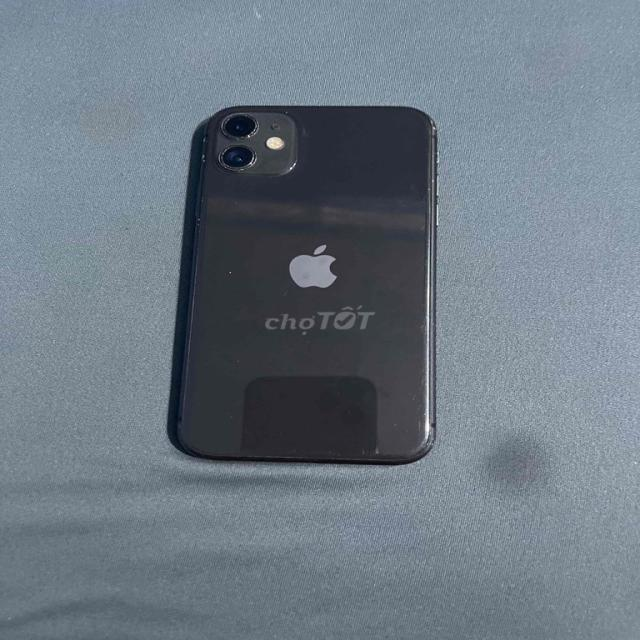gen_11: (172, 106, 438, 463)
